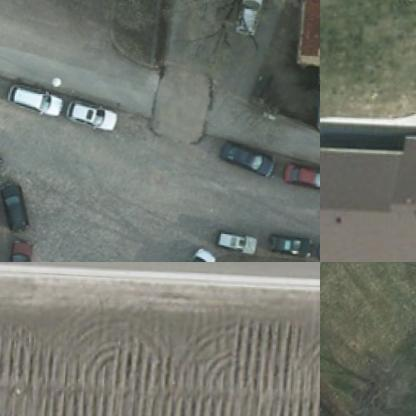car: (67, 96, 120, 131), (222, 140, 275, 174), (0, 180, 34, 232), (232, 0, 269, 40), (13, 83, 62, 113), (268, 228, 314, 258), (284, 156, 319, 185), (219, 228, 258, 252), (1, 238, 39, 261), (174, 244, 217, 261), (315, 238, 319, 261)
